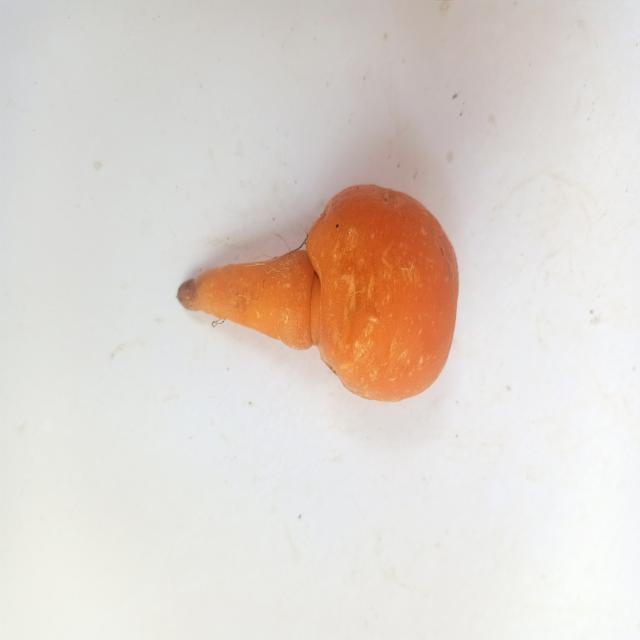Carrot: (165, 170, 458, 416)
